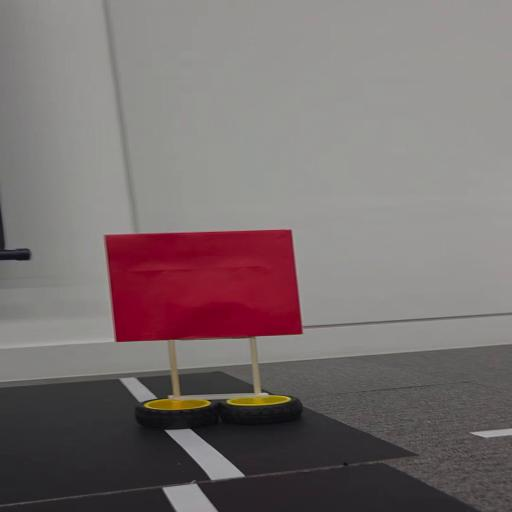Sign_A: (100, 224, 309, 424)
